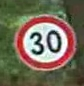limite 30: (12, 13, 76, 71)
